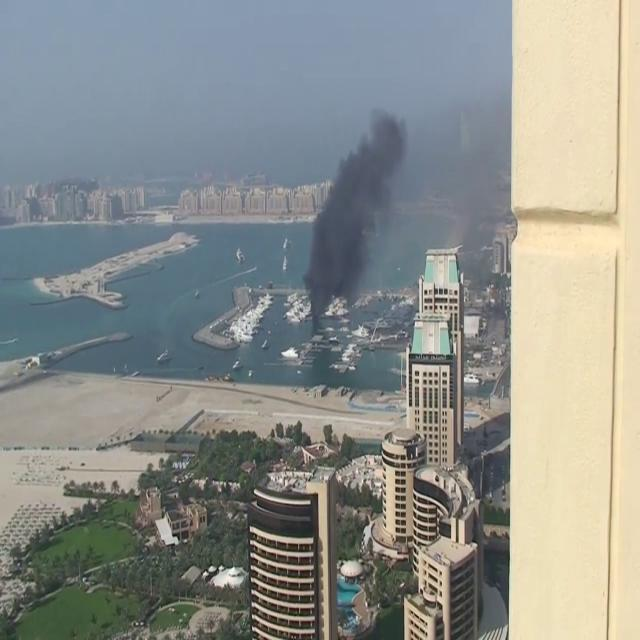Smoke: (302, 96, 406, 380)
